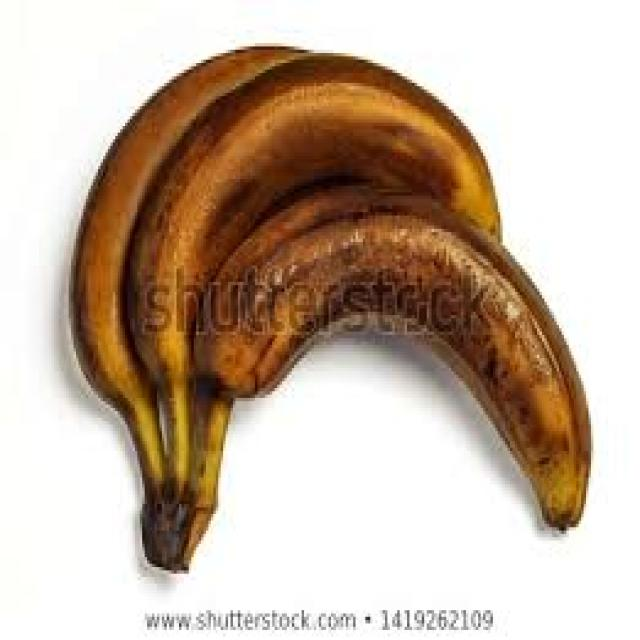organic waste: (123, 50, 500, 567), (176, 176, 588, 570), (69, 40, 314, 567)
